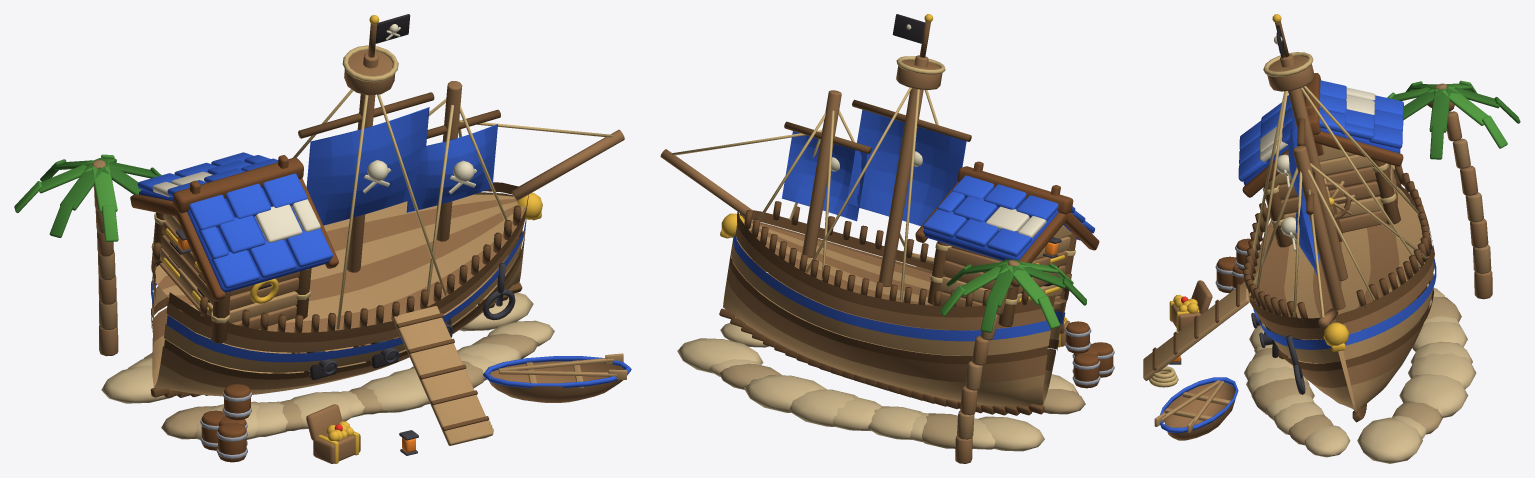
File: TownCentre.glb
The picture shows the model from 3 angles, left to right: view 1: azimuth 30°, elevation 25°; view 2: azimuth 150°, elevation 25°; view 3: azimuth 270°, elevation 25°; orthographic projection. The views are drawn at different scales.
Visible parts, largest first — view 1: TownCentre; view 2: TownCentre; view 3: TownCentre.
Boxes of the visible parts, x1,y1,x2,y2 form: TownCentre: (14, 14, 631, 463); TownCentre: (660, 14, 1114, 463); TownCentre: (1143, 14, 1520, 463).
Size of the model in its own units: 7.22 by 5.17 by 4.89.
